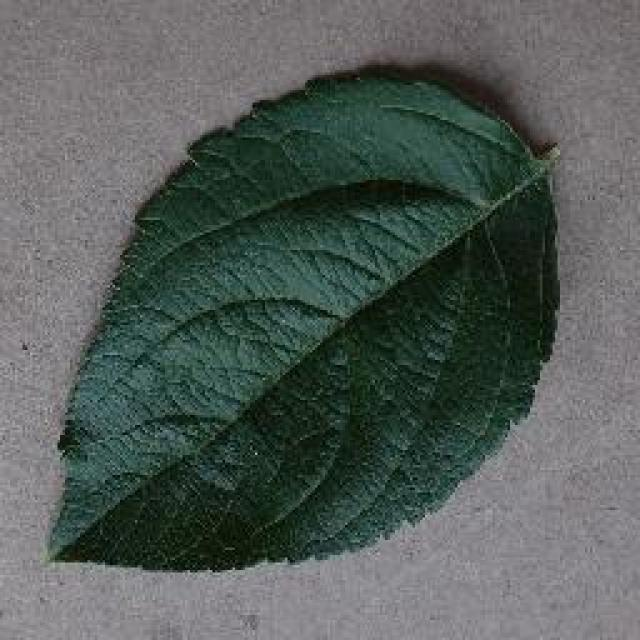apple healthy: (42, 62, 562, 572)
